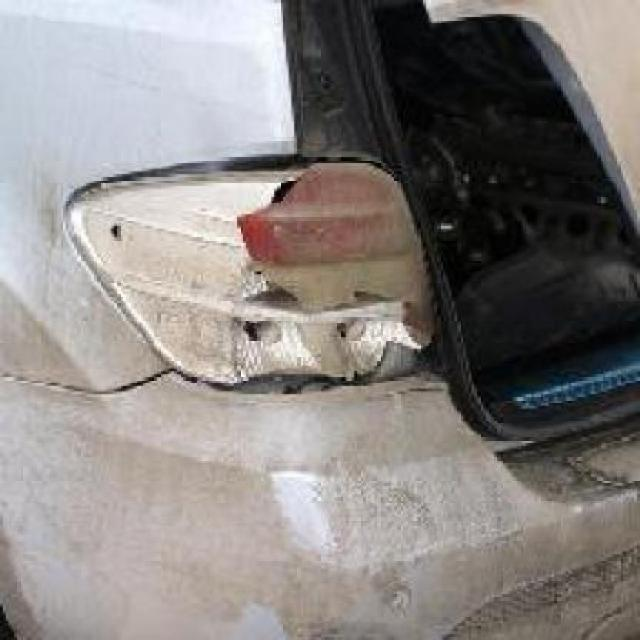damaged-tail-light: (74, 165, 463, 382)
